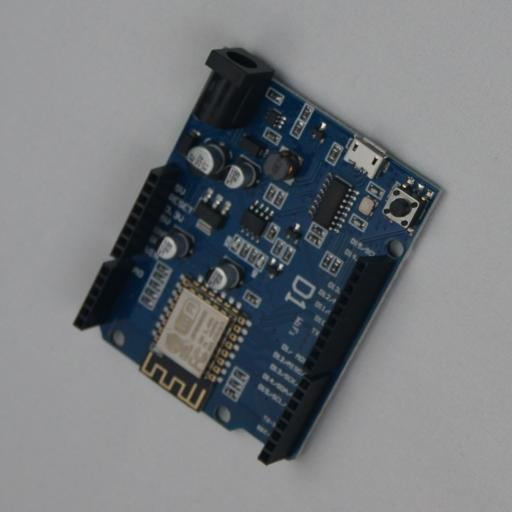Arduino Uno WiFi Shield: (73, 47, 443, 465)
